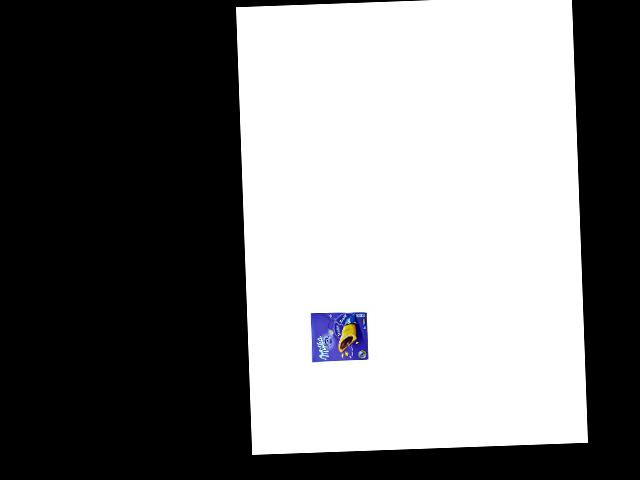chocolate: (306, 309, 372, 365)
